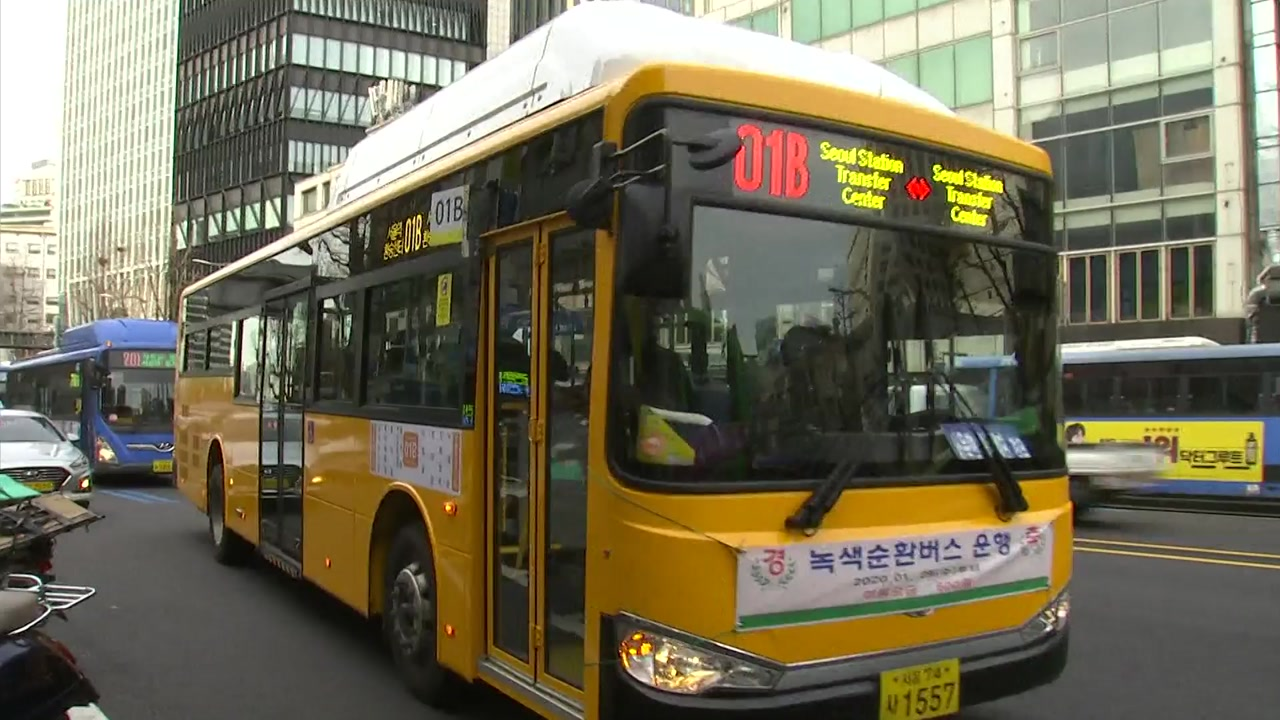bnum: (732, 116, 811, 203)
